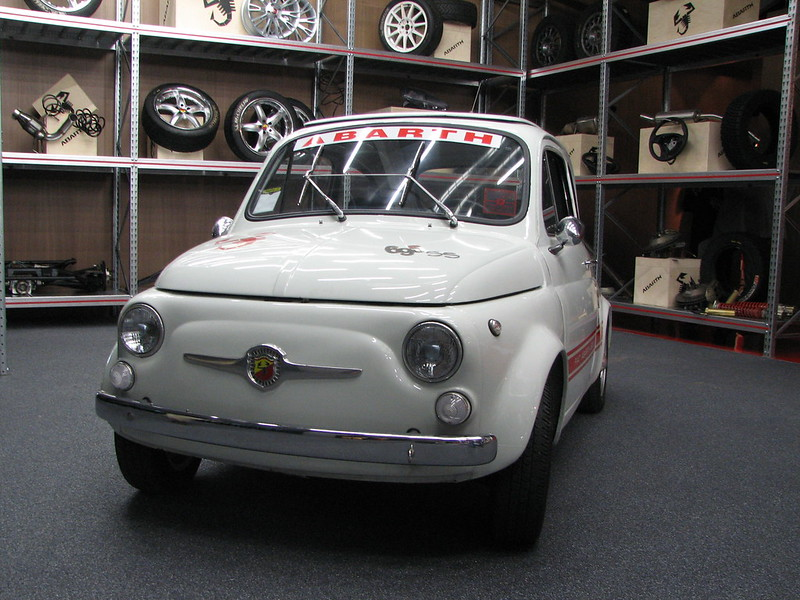car: (97, 105, 616, 551)
